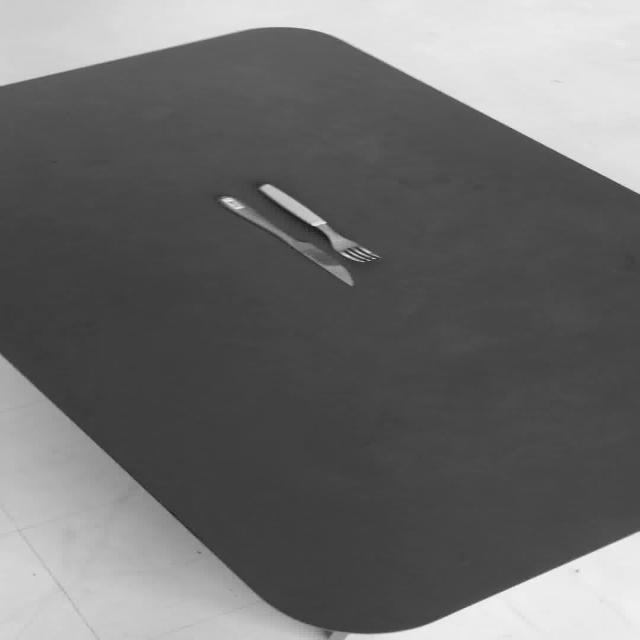fork: (256, 182, 380, 263)
knife fork: (215, 194, 354, 287)
